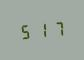five: (18, 22, 32, 40)
one: (34, 20, 48, 39)
seven: (49, 19, 63, 38)
